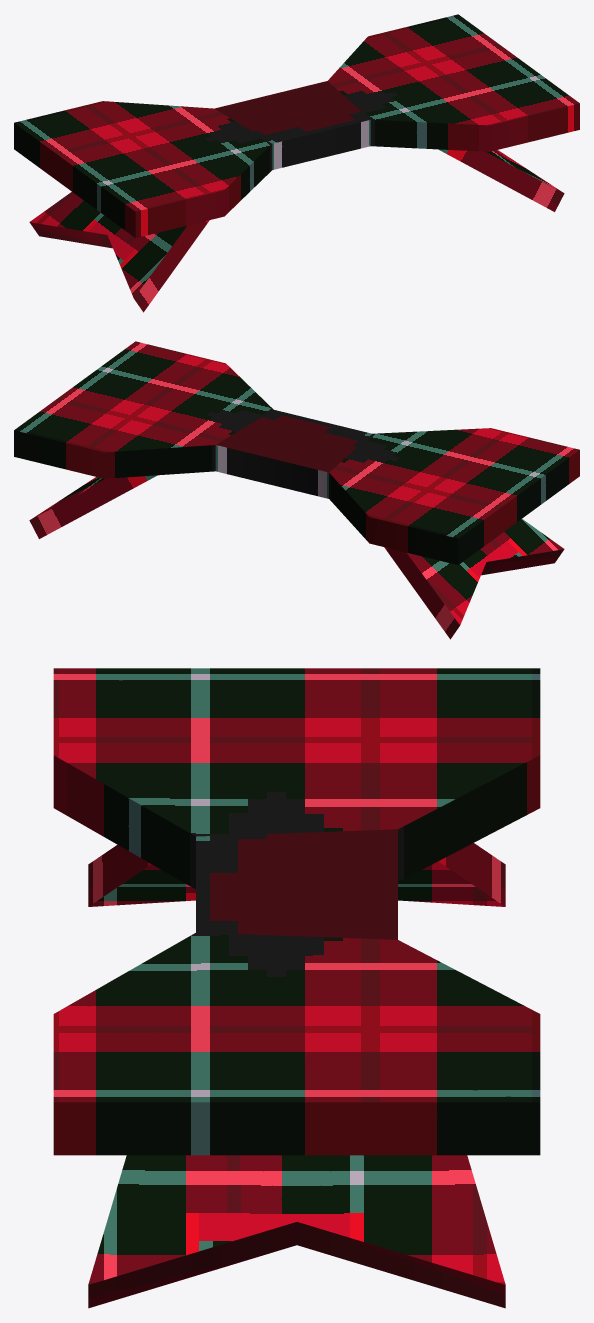
3 renders of one model, top to bottom at view 1: azimuth 30°, elevation 25°; view 2: azimuth 150°, elevation 25°; view 3: azimuth 270°, elevation 25°, orthographic. The views are drawn at different scales.
Visible parts, largest first — view 1: 3831kg3_ser12; view 2: 3831kg3_ser12; view 3: 3831kg3_ser12.
Part boxes in pixels (bbox=[...]): 3831kg3_ser12: bbox=[14, 14, 579, 312]; 3831kg3_ser12: bbox=[14, 341, 579, 639]; 3831kg3_ser12: bbox=[53, 668, 540, 1308].
Size of the model in its own units: 1.9 by 0.4543 by 0.9004.
Materials: 2 (2 with a texture image).
